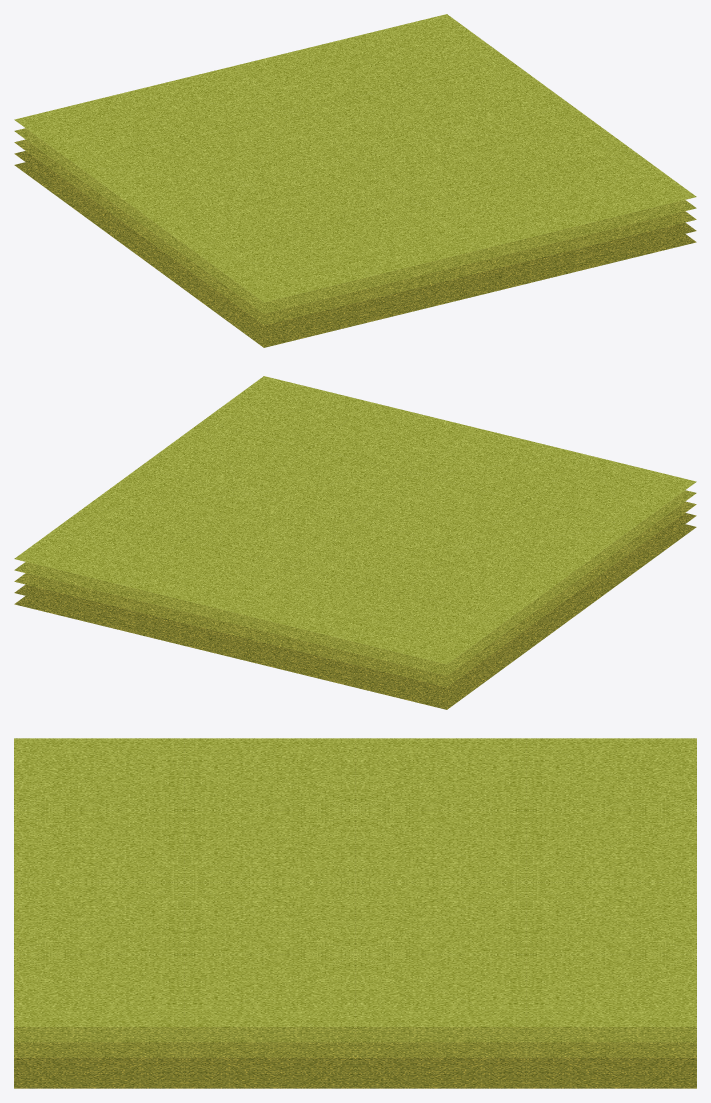
File: rogge.fbx
The picture shows the model from 3 angles, top to bottom: view 1: azimuth 30°, elevation 25°; view 2: azimuth 150°, elevation 25°; view 3: azimuth 270°, elevation 25°; orthographic projection. The views are drawn at different scales.
Visible parts, largest first — view 1: rogge; view 2: rogge; view 3: rogge.
Part boxes in pixels (x1,y1,x2,y2): rogge: (14,14,696,347); rogge: (14,376,696,709); rogge: (14,738,696,1088).
Size of the model in its own units: 2000 by 200 by 2000.
1 material, 1 textured.
